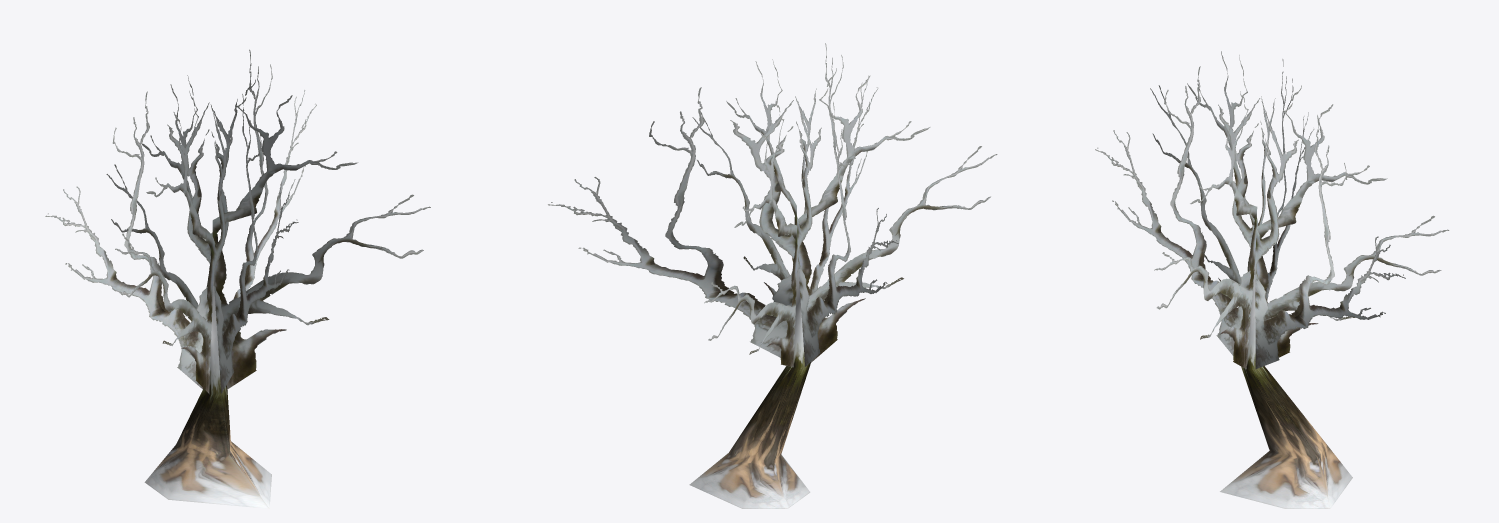
File: ironforgebush01.obj
3 renders of one model, left to right at view 1: azimuth 30°, elevation 25°; view 2: azimuth 150°, elevation 25°; view 3: azimuth 270°, elevation 25°, orthographic. The views are drawn at different scales.
Parts seen in each view (by area): view 1: ironforgebush01; view 2: ironforgebush01; view 3: ironforgebush01.
Part boxes in pixels (x1=…): ironforgebush01: x1=45, y1=49, x2=430, y2=508; ironforgebush01: x1=548, y1=43, x2=997, y2=508; ironforgebush01: x1=1095, y1=51, x2=1449, y2=508.
Size of the model in its own units: 3.81 by 4.43 by 3.66.
1 material, 1 textured.
